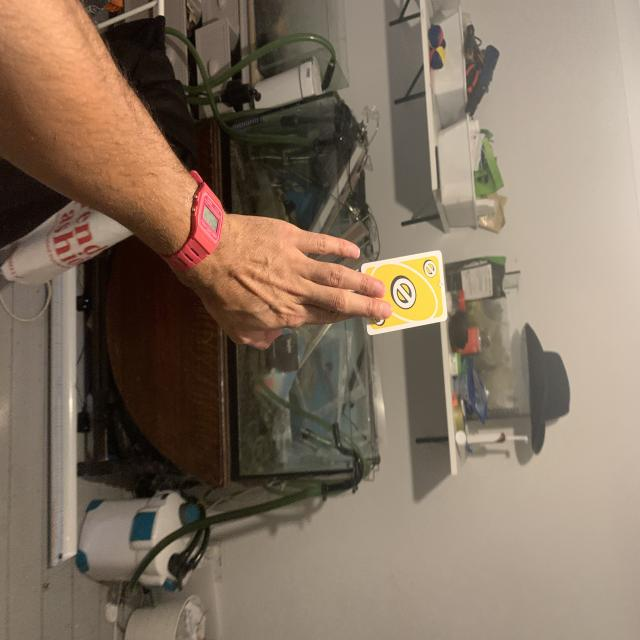lyellowskip-20: (418, 257, 440, 281)
